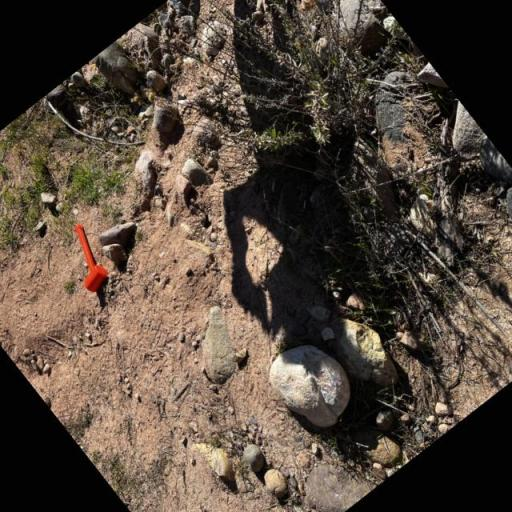mallet: (52, 222, 120, 294)
